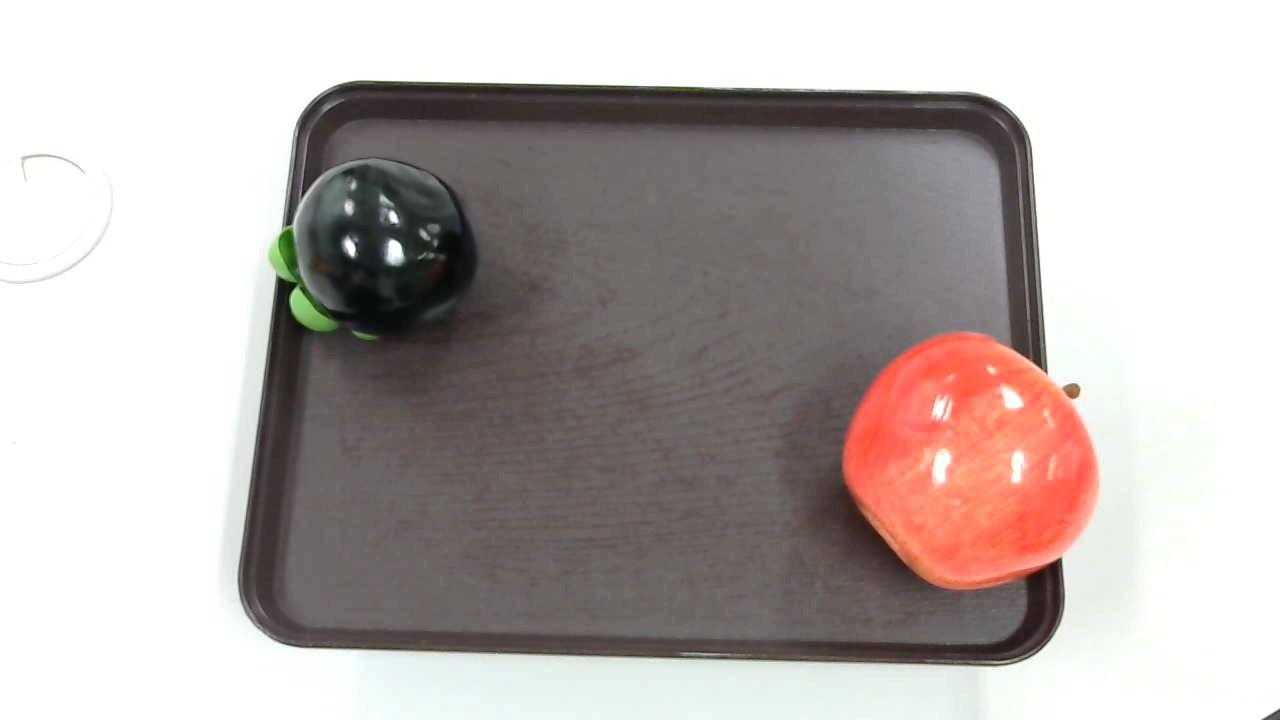mangosteen: (268, 158, 481, 347)
red apple: (835, 325, 1101, 586)
